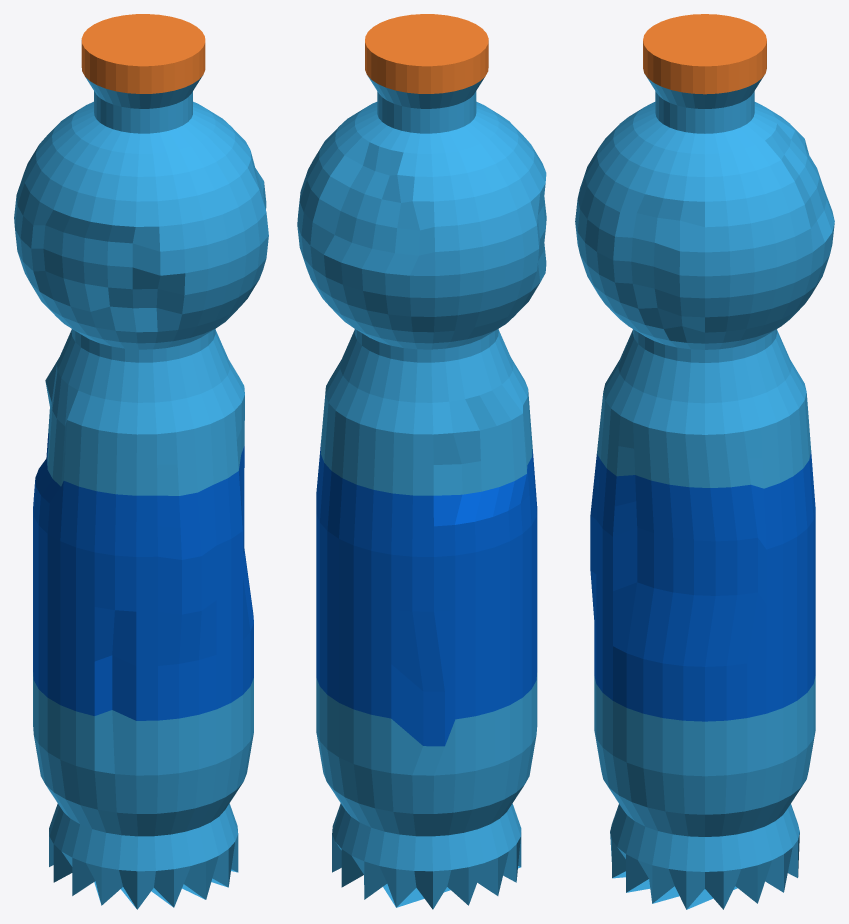
Rendered from plactic.fbx.
3 renders of one model, left to right at view 1: azimuth 30°, elevation 25°; view 2: azimuth 150°, elevation 25°; view 3: azimuth 270°, elevation 25°, orthographic.
Parts seen in each view (by area): view 1: Bottle; view 2: Bottle; view 3: Bottle.
Boxes of the visible parts, x1=… form: Bottle: x1=14, y1=14, x2=268, y2=909; Bottle: x1=297, y1=14, x2=546, y2=909; Bottle: x1=575, y1=14, x2=834, y2=909.
Size of the model in its own units: 200 by 705 by 200.
